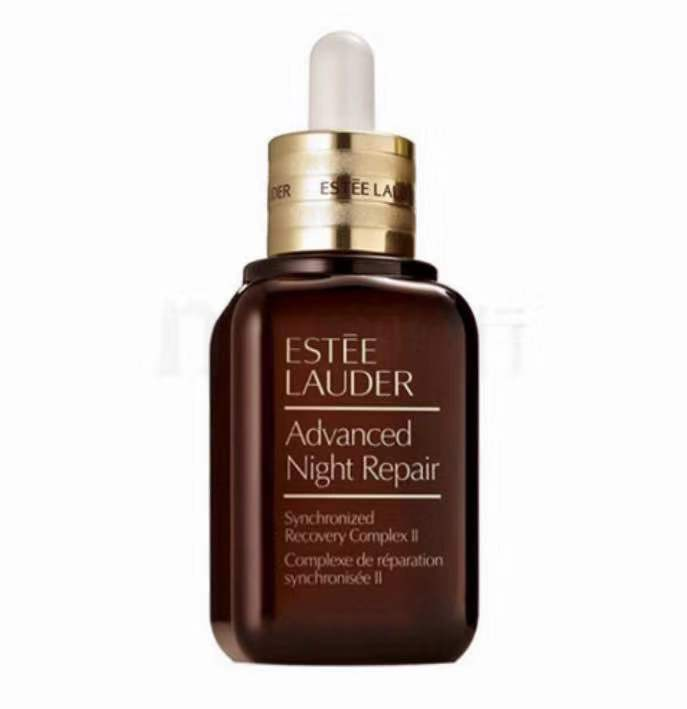cosmetic: (223, 21, 480, 655)
